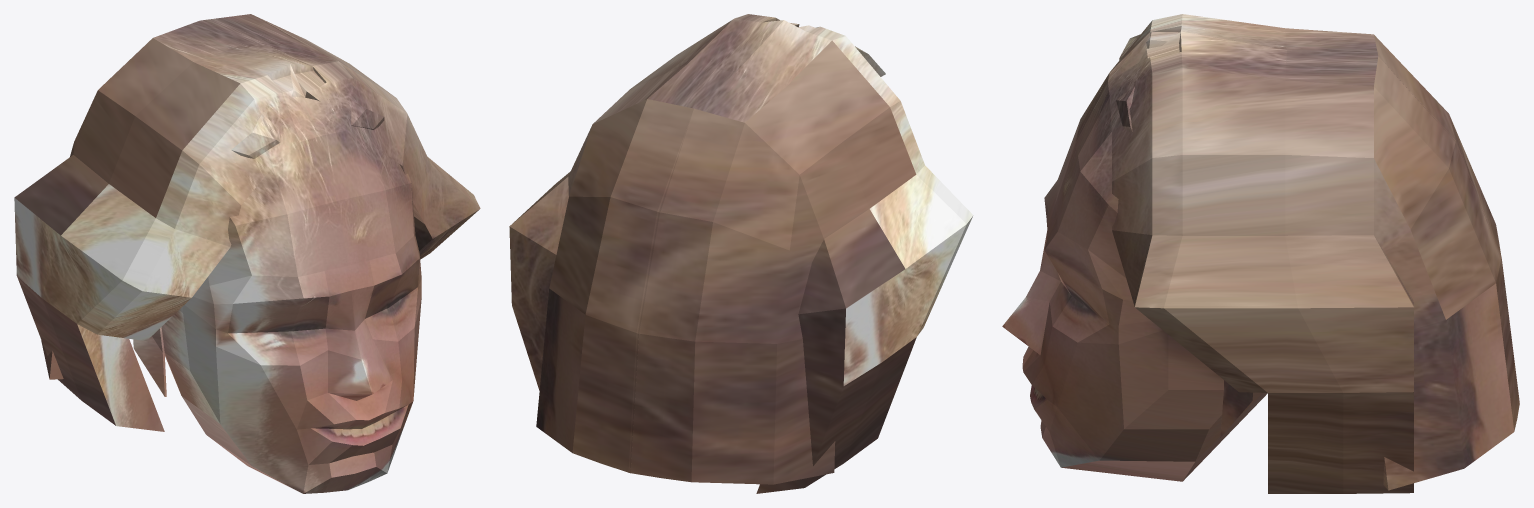
File: nicole.glb
3 views of the same model, side by side, from view 1: azimuth 30°, elevation 25°; view 2: azimuth 150°, elevation 25°; view 3: azimuth 270°, elevation 25° (orthographic). The views are drawn at different scales.
Visible parts, largest first — view 1: Nicole; view 2: Nicole; view 3: Nicole.
Part boxes in pixels (<box>): Nicole: <box>14,14,480,493</box>; Nicole: <box>509,14,973,493</box>; Nicole: <box>1002,14,1519,493</box>.
Bounding box in the file's own units: 2.07 × 2.23 × 2.42.
1 material, 1 textured.
